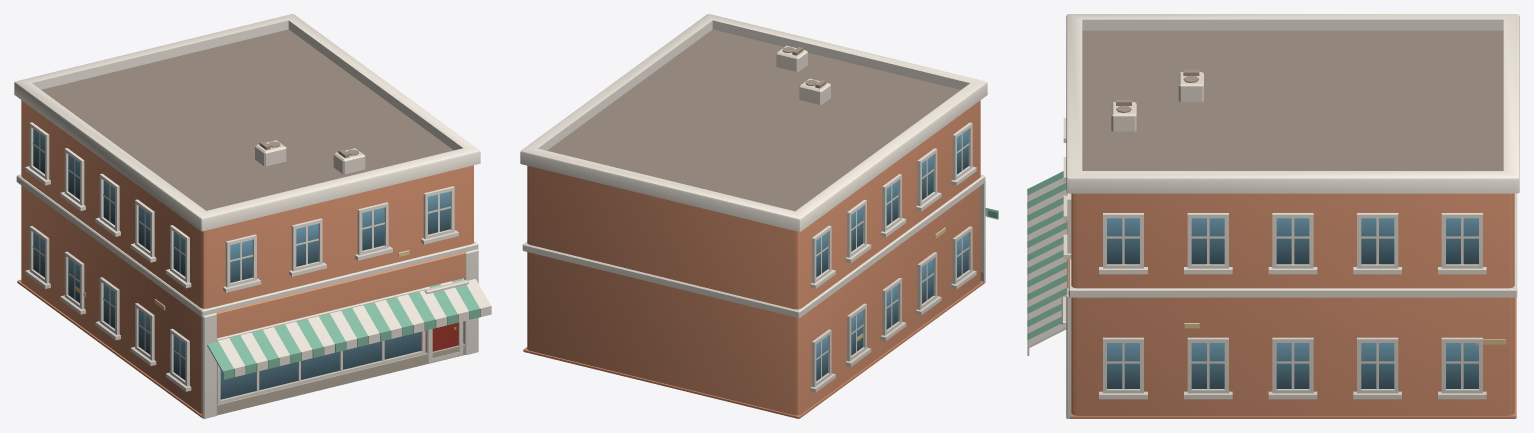
The model's file is boylston_s12.glb.
3 views of the same model, side by side, from view 1: azimuth 30°, elevation 25°; view 2: azimuth 150°, elevation 25°; view 3: azimuth 270°, elevation 25° (orthographic). The views are drawn at different scales.
Parts seen in each view (by area): view 1: boylston_s12; view 2: boylston_s12; view 3: boylston_s12.
Part boxes in pixels (x1,y1,x2,y2): boylston_s12: [14, 14, 491, 418]; boylston_s12: [520, 14, 998, 418]; boylston_s12: [1027, 14, 1519, 418].
Bounding box in the file's own units: 12.48 × 8.79 × 15.55.
1 material, 1 textured.
